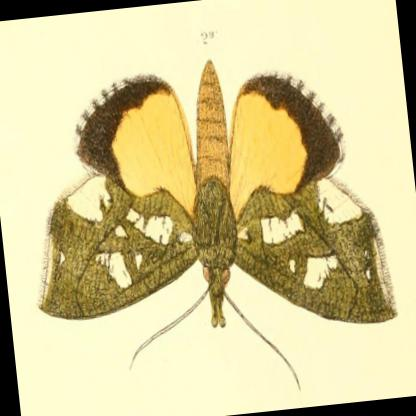fruit sucking moth: (36, 62, 399, 328)
